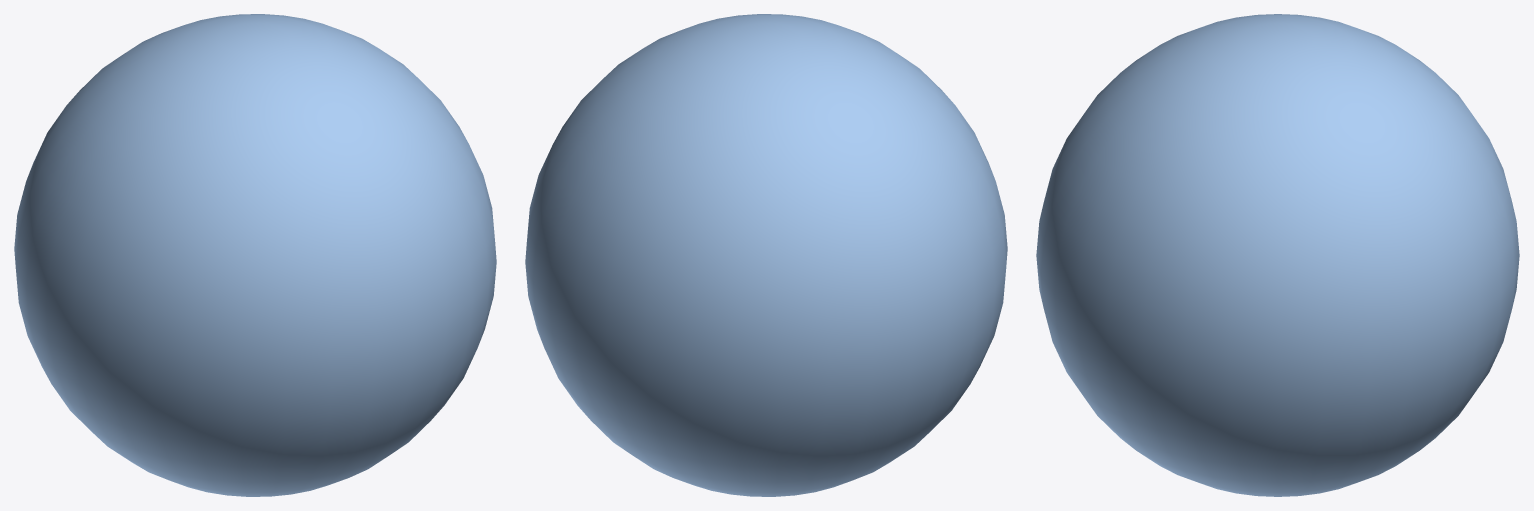
Rendered from ball.gltf.
The picture shows the model from 3 angles, left to right: view 1: azimuth 30°, elevation 25°; view 2: azimuth 150°, elevation 25°; view 3: azimuth 270°, elevation 25°; orthographic projection.
Size of the model in its own units: 2 by 2 by 2.
